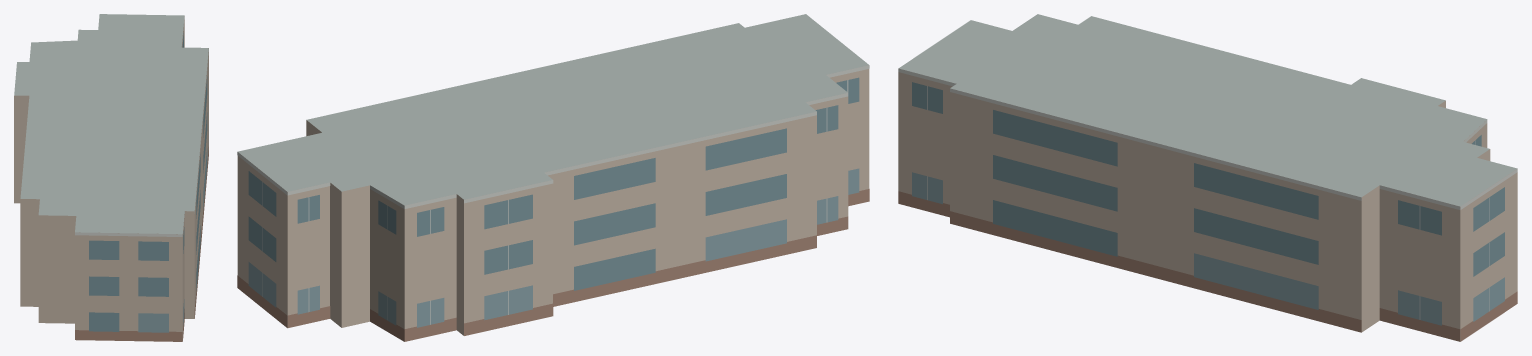
The model's file is survey-upis-32839710.glb.
3 views of the same model, side by side, from view 1: azimuth 30°, elevation 25°; view 2: azimuth 150°, elevation 25°; view 3: azimuth 270°, elevation 25° (orthographic). The views are drawn at different scales.
Visible parts, largest first — view 1: survey-upis-32839710.tmp; view 2: survey-upis-32839710.tmp; view 3: survey-upis-32839710.tmp.
Boxes of the visible parts, bbox=[...] form: survey-upis-32839710.tmp: bbox=[14, 14, 208, 341]; survey-upis-32839710.tmp: bbox=[237, 14, 869, 341]; survey-upis-32839710.tmp: bbox=[898, 14, 1517, 341].
Size of the model in its own units: 27.94 by 9.15 by 37.95.
